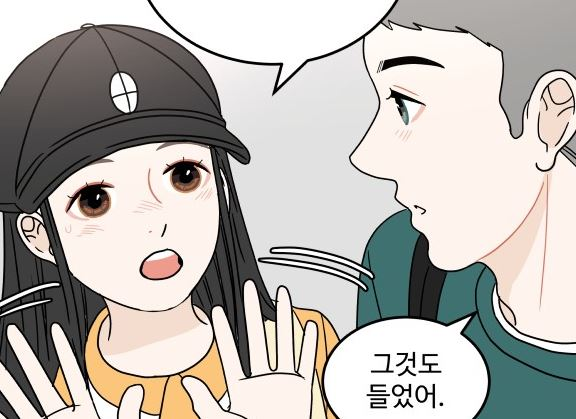hat: (2, 24, 248, 200)
